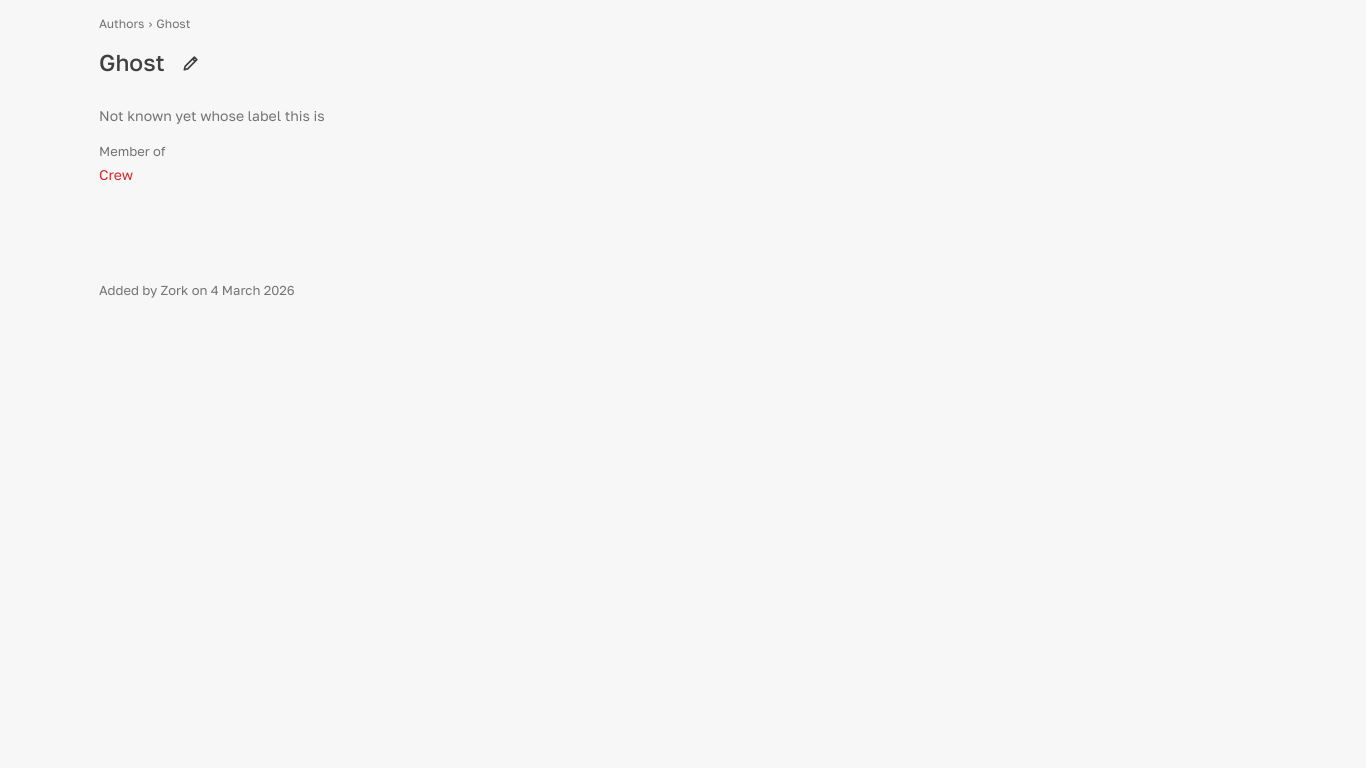
LabelView › opens saying whose the label is and making a group in their own windows, out of the closed menu
Click the button named "Actions": (191, 63) [173,45,209,81]
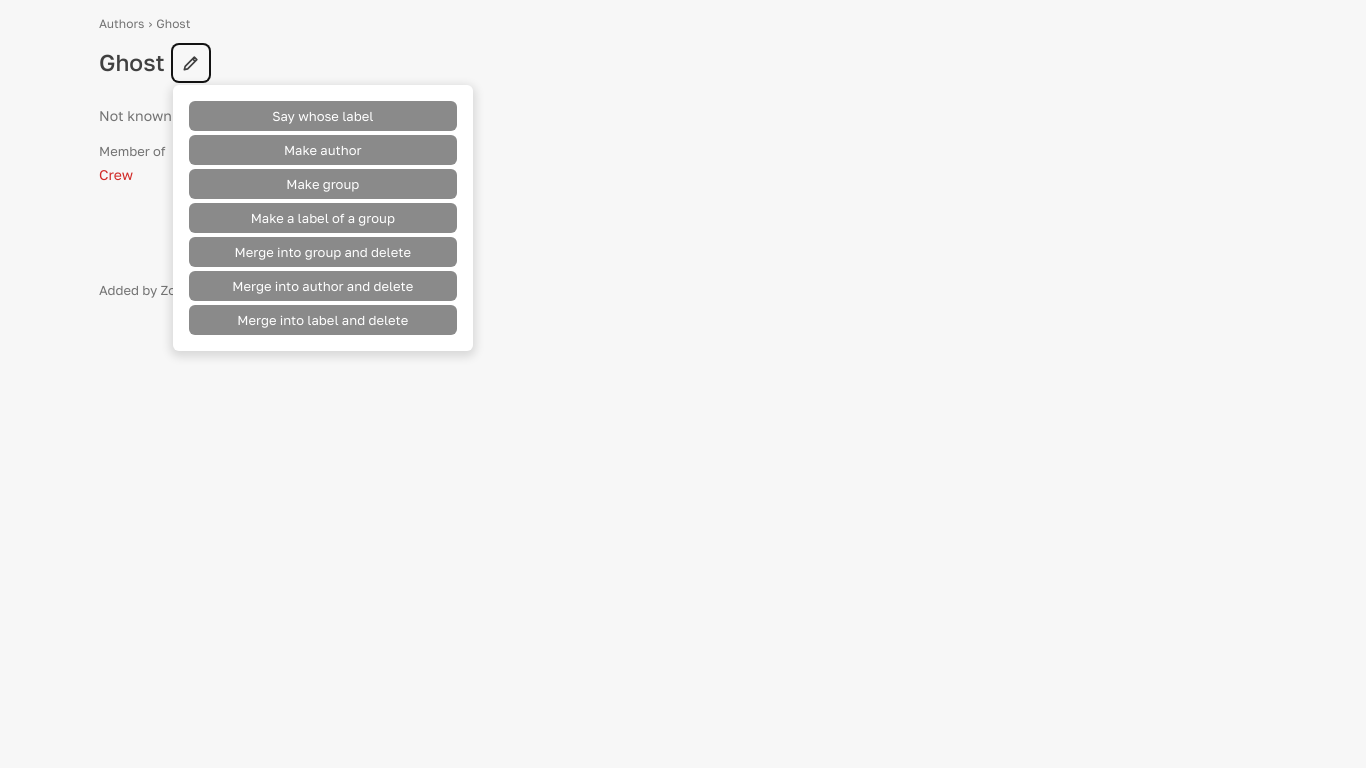
Click the button "Say whose label": (323, 116) [189,101,457,131]
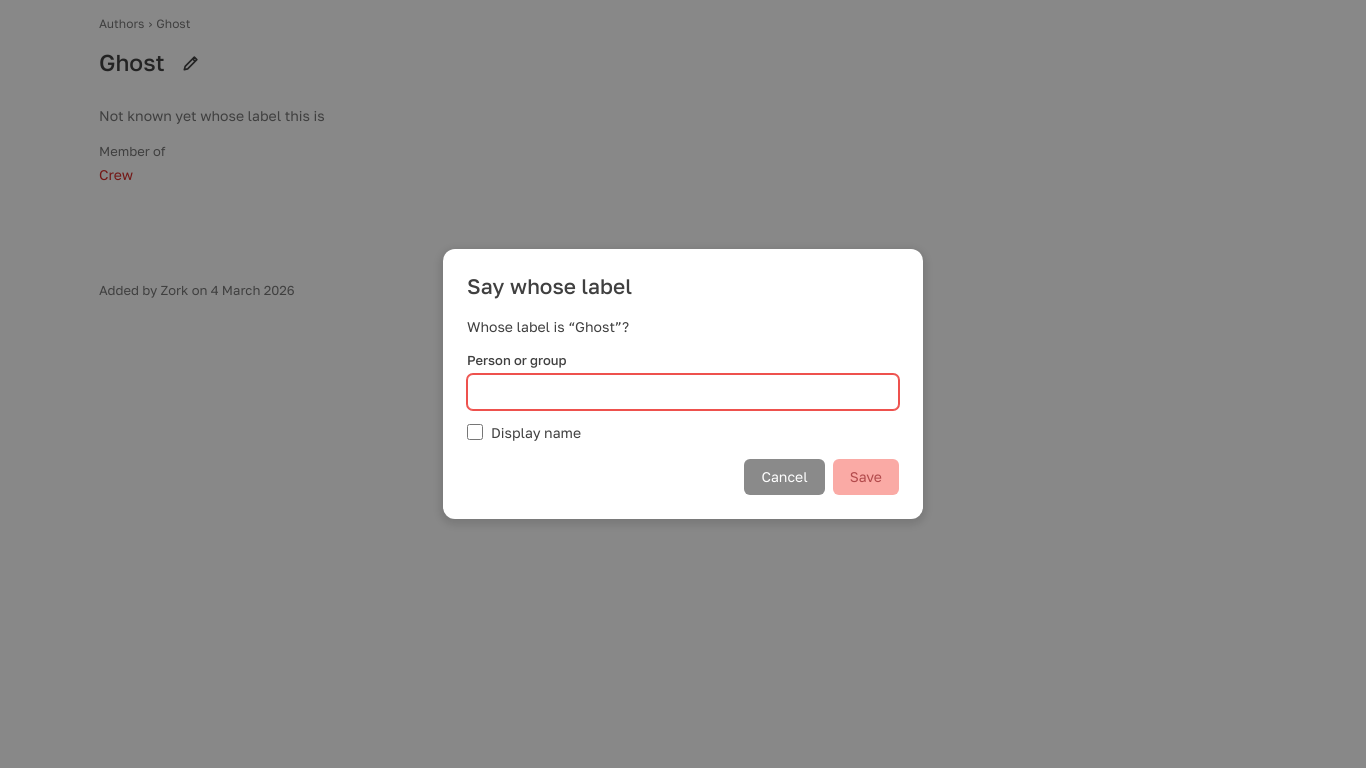
Check: the dialog "Say whose label" is shown, box [443,249,923,519]
Click the button "Cancel": (785, 477) [744,459,825,495]
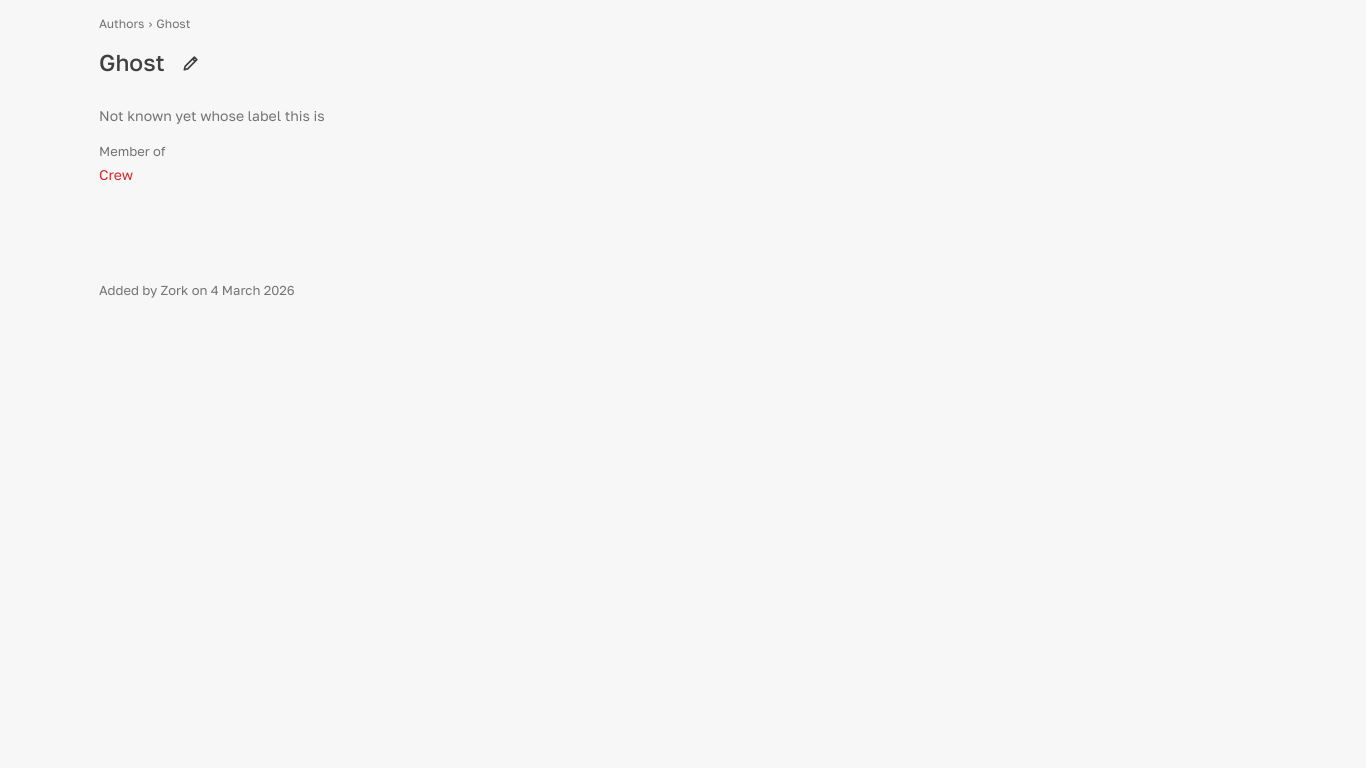
Click the button named "Actions": (191, 63) [173,45,209,81]
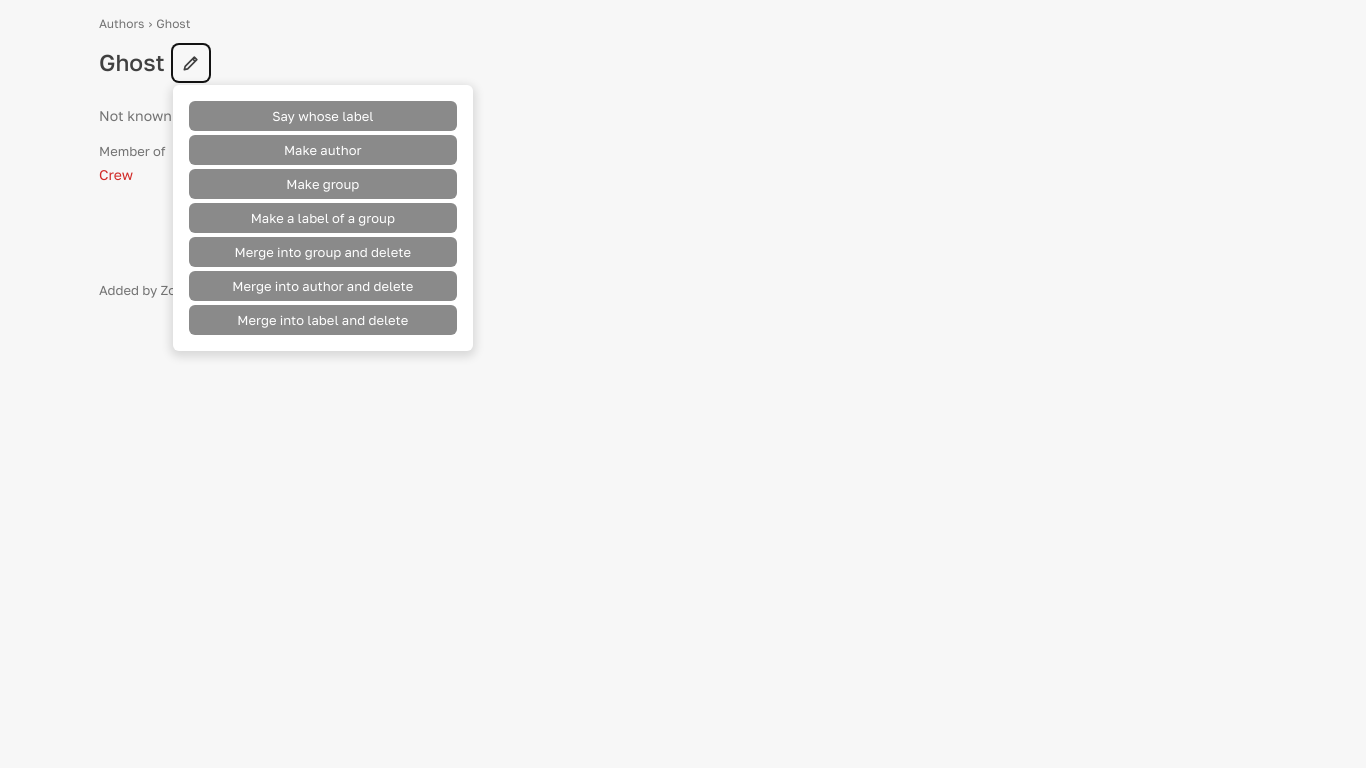
Click the button "Make group": (323, 184) [189,169,457,199]
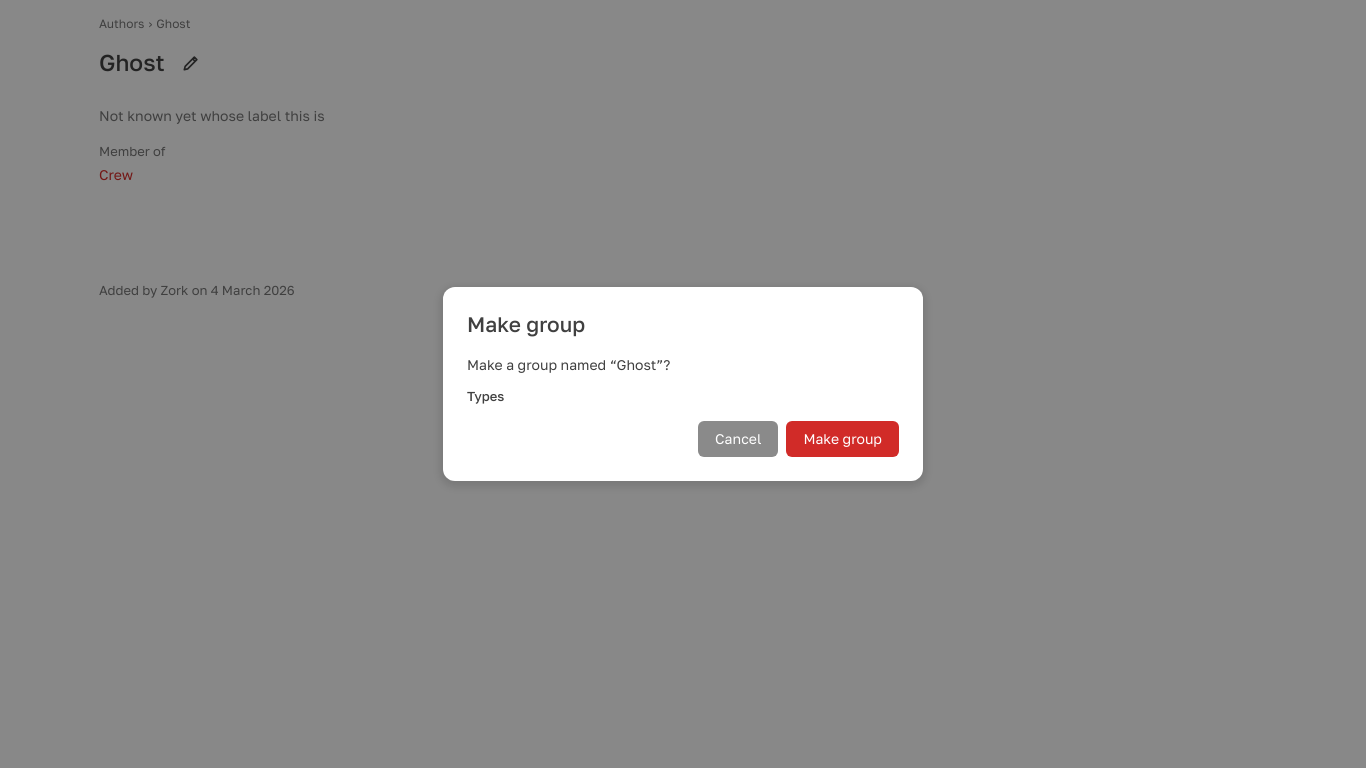
Check: the dialog "Make group" is shown, box [443,287,923,481]
